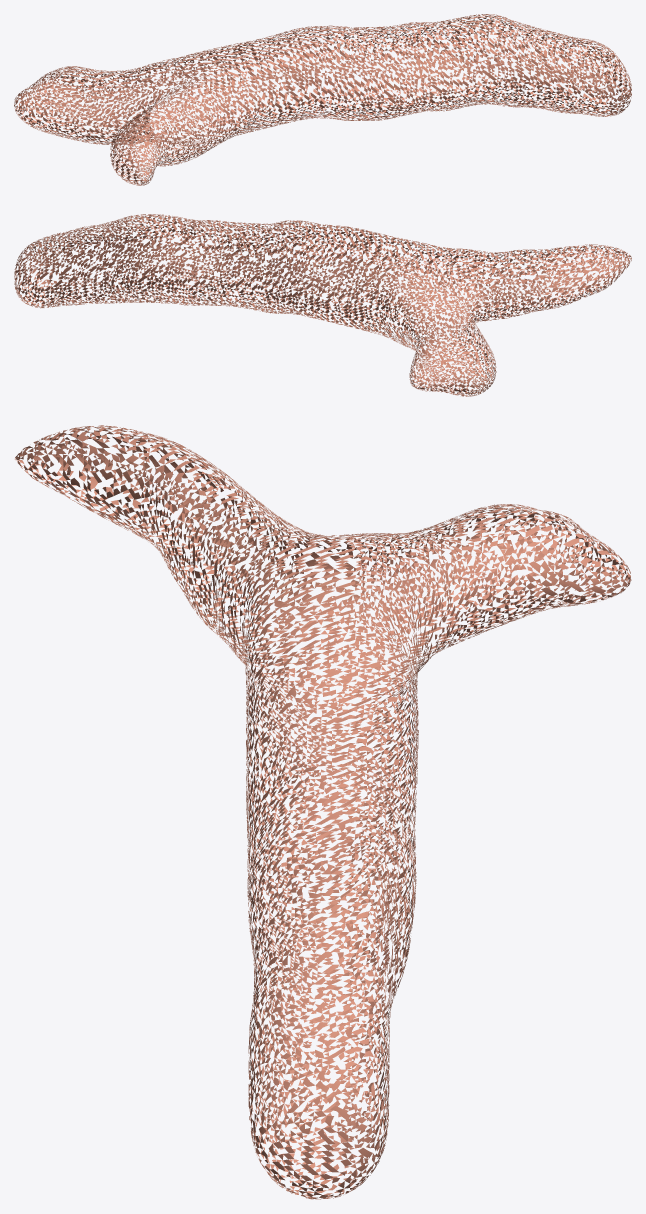
Rendered from morph_003.glb.
The picture shows the model from 3 angles, top to bottom: view 1: azimuth 30°, elevation 25°; view 2: azimuth 150°, elevation 25°; view 3: azimuth 270°, elevation 25°; orthographic projection. The views are drawn at different scales.
Size of the model in its own units: 128 by 32.83 by 63.59.
